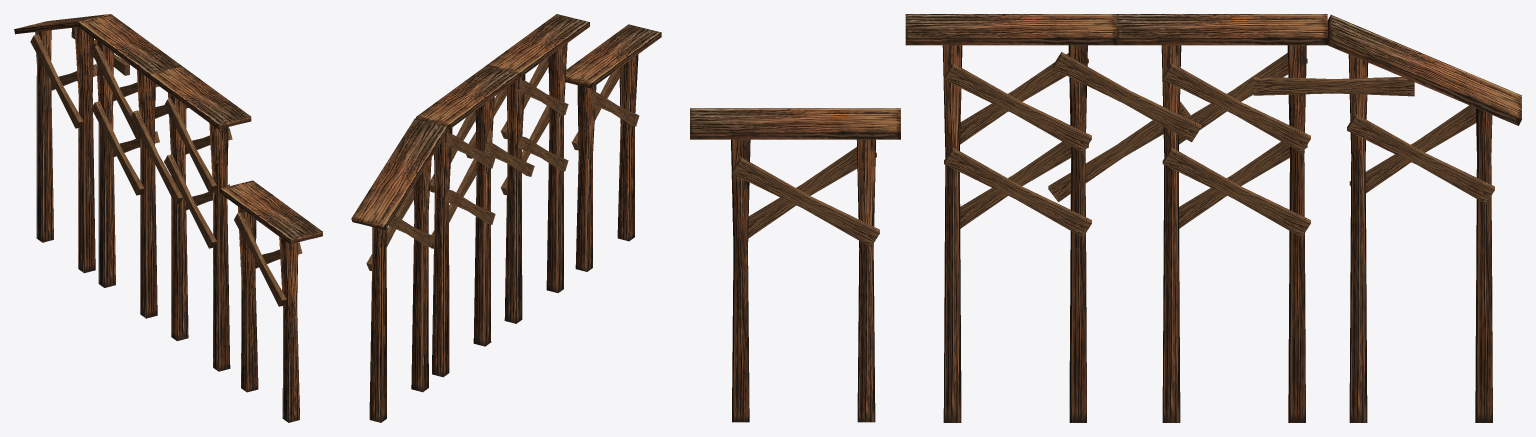
Rendered from LAKETOWN_WAREHOUSE2_PS_WH2_PLATFORM2_273__GX.fbx.
3 renders of one model, left to right at view 1: azimuth 30°, elevation 25°; view 2: azimuth 150°, elevation 25°; view 3: azimuth 270°, elevation 25°, orthographic. The views are drawn at different scales.
Visible parts, largest first — view 1: LAKETOWN_WAREHOUSE2_PS_WH2_PLATFORM2_273__GX; view 2: LAKETOWN_WAREHOUSE2_PS_WH2_PLATFORM2_273__GX; view 3: LAKETOWN_WAREHOUSE2_PS_WH2_PLATFORM2_273__GX.
Part boxes in pixels (x1,y1,x2,y2): LAKETOWN_WAREHOUSE2_PS_WH2_PLATFORM2_273__GX: [14, 14, 322, 422]; LAKETOWN_WAREHOUSE2_PS_WH2_PLATFORM2_273__GX: [351, 14, 661, 422]; LAKETOWN_WAREHOUSE2_PS_WH2_PLATFORM2_273__GX: [690, 14, 1521, 422].
Size of the model in its own units: 11045 by 82887 by 159714.
3 materials, 3 textured.
